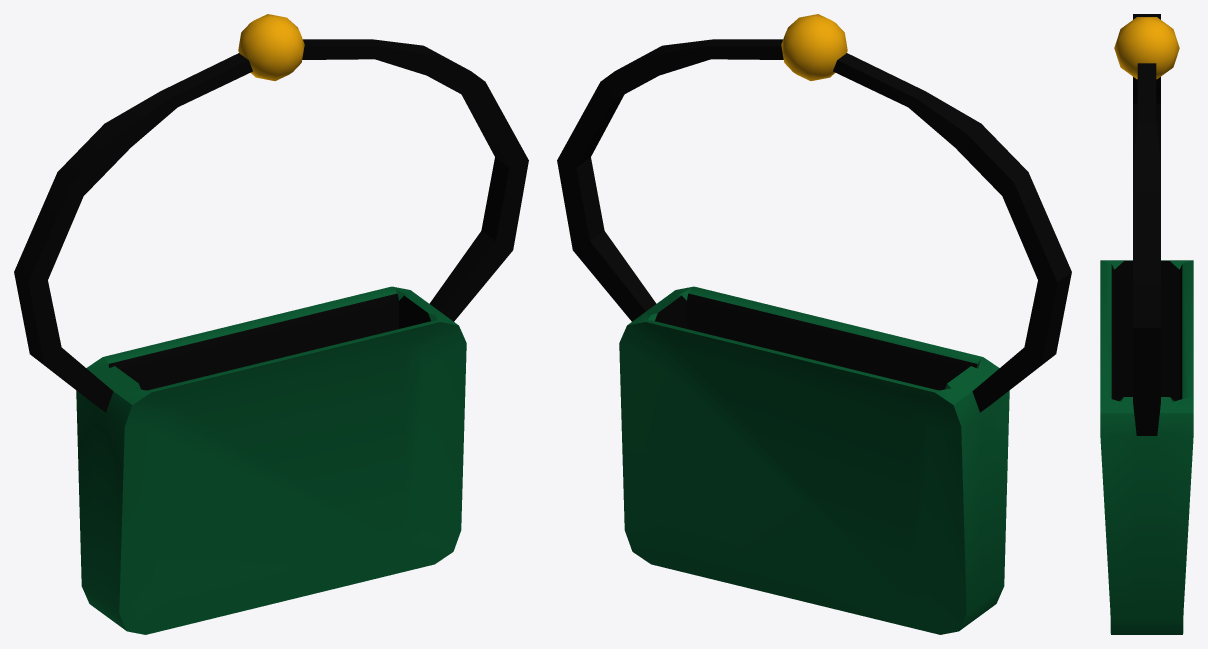
File: Purse.fbx
The picture shows the model from 3 angles, left to right: view 1: azimuth 30°, elevation 25°; view 2: azimuth 150°, elevation 25°; view 3: azimuth 270°, elevation 25°; orthographic projection. The views are drawn at different scales.
Parts seen in each view (by area): view 1: Purse; view 2: Purse; view 3: Purse.
Part boxes in pixels (x1=…): Purse: x1=14, y1=14, x2=528, y2=634; Purse: x1=557, y1=14, x2=1071, y2=634; Purse: x1=1100, y1=14, x2=1193, y2=634.
Bounding box in the file's own units: 1263 × 1372 × 212.
